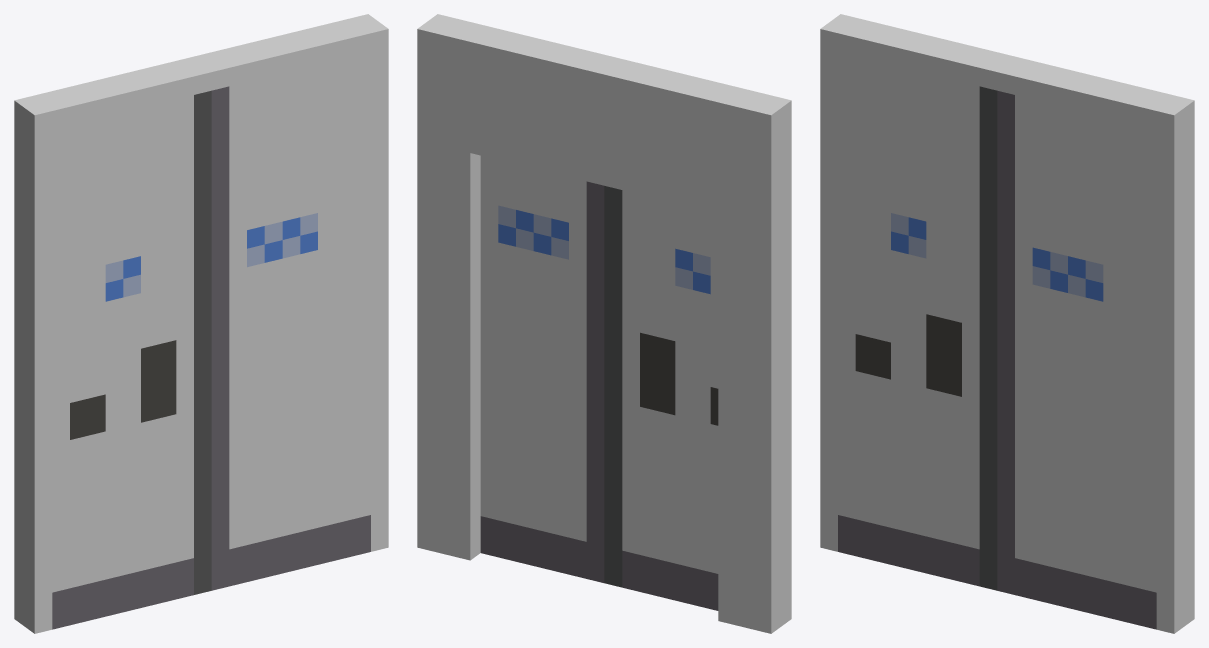
File: toilet_wall.gltf
3 renders of one model, left to right at view 1: azimuth 30°, elevation 25°; view 2: azimuth 150°, elevation 25°; view 3: azimuth 330°, elevation 25°, orthographic.
Visible parts, largest first — view 1: Layer.1; view 2: Layer.1; view 3: Layer.1.
Part boxes in pixels (x1,y1,x2,y2): Layer.1: (14, 14, 388, 633); Layer.1: (417, 14, 791, 633); Layer.1: (820, 14, 1194, 633).
Bounding box in the file's own units: 20 × 28 × 2.
